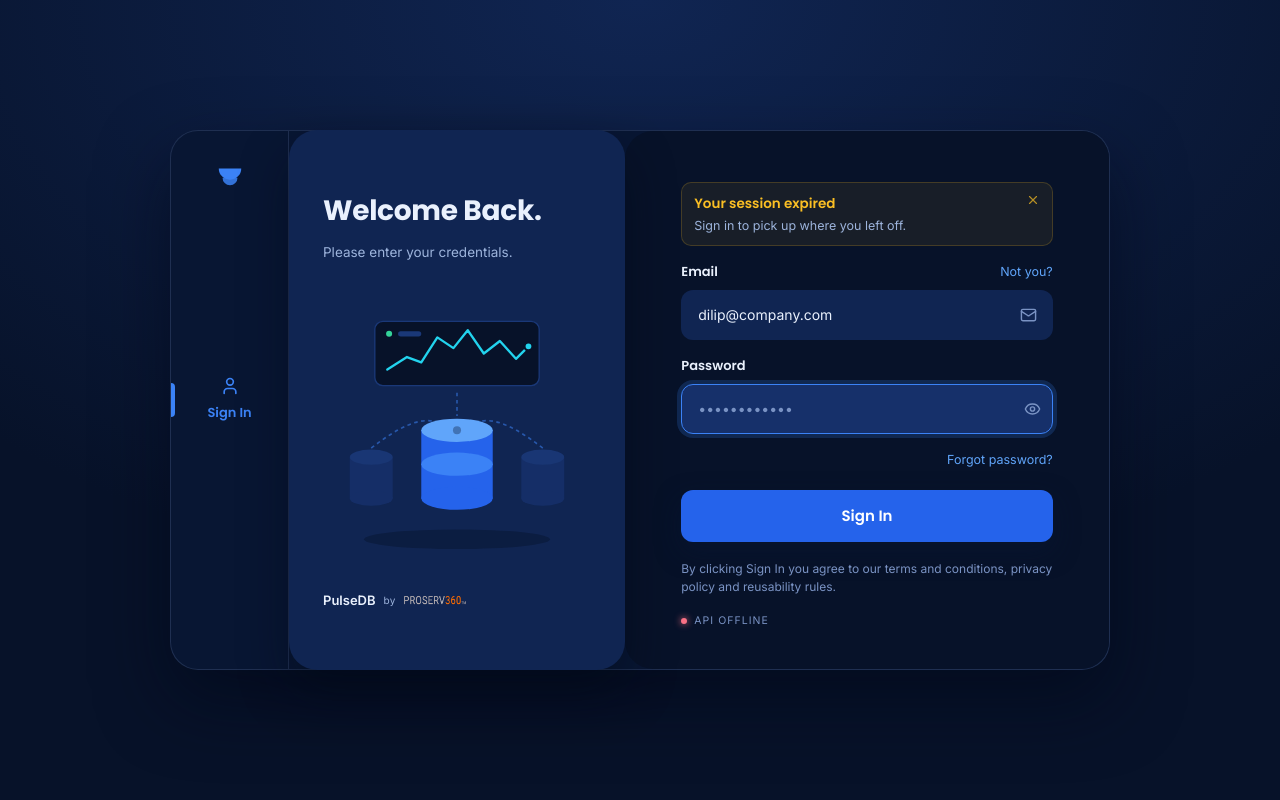
Test: LoginPage — returning user › drops the escape hatch once the field is edited
The width and height of the screenshot is (1280, 800).
Replace the text in the field showing "dilip@company.com" with "someone.else@company.com" at (867, 315), box [681,290,1053,340]
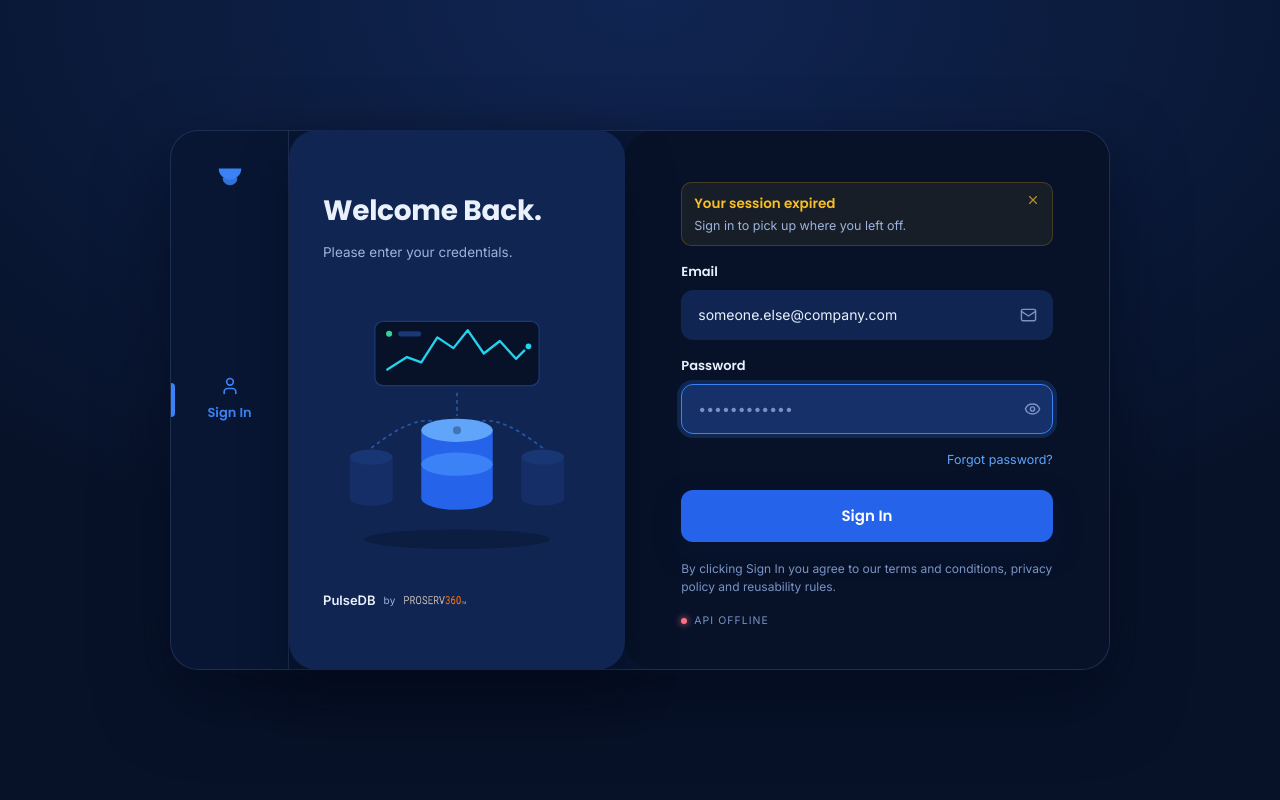
Result: the text "Not you?" is gone
